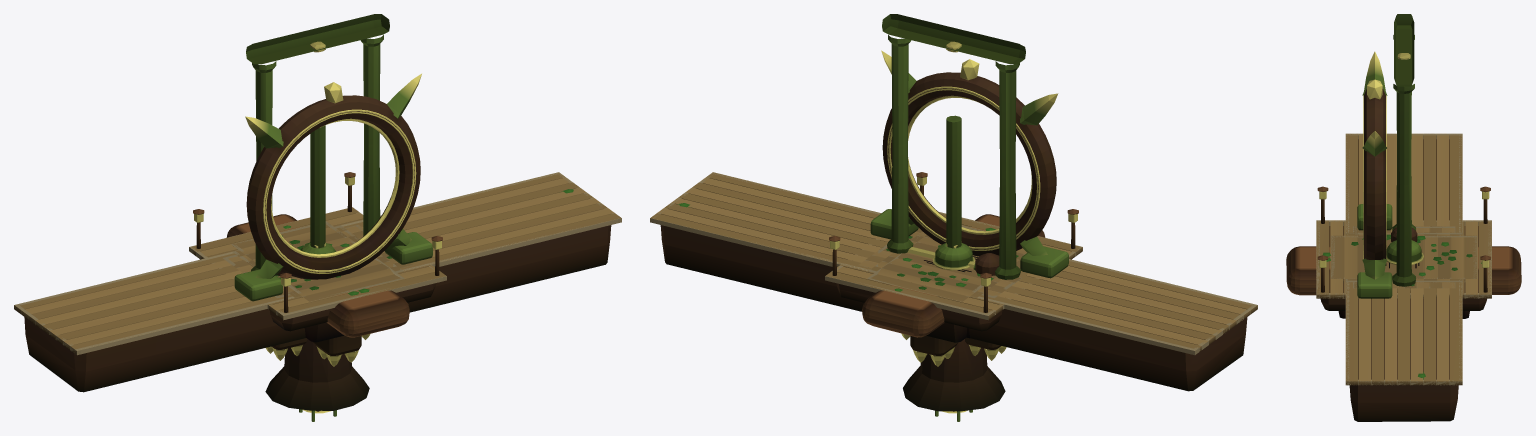
File: swamp-1-Bg64o3NV.glb
3 renders of one model, left to right at view 1: azimuth 30°, elevation 25°; view 2: azimuth 150°, elevation 25°; view 3: azimuth 270°, elevation 25°, orthographic. The views are drawn at different scales.
Visible parts, largest first — view 1: block_40x2x8#0, portal_#0, pad_12x2x12#0, pressFrame_6x6x2x7#0, block_7x2x10#0, beam_5x1.5x16_plank#0, press_7.5x6x2.5#0, press_2.5x6x7.5#0, block_8x2x8#0, block_10x2x7#0; view 2: block_40x2x8#0, portal_#0, pressFrame_6x6x2x7#0, pad_12x2x12#0, block_7x2x10#0, beam_5x1.5x16_plank#0, press_7.5x6x2.5#0, barHub_7.4x1.2#0, press_2.5x6x7.5#0, block_10x2x7#0, block_8x2x8#0; view 3: block_40x2x8#0, portal_#0, pressFrame_6x6x2x7#0, pad_12x2x12#0, block_7x2x10#0, beam_5x1.5x16_plank#0, block_10x2x7#0, block_8x2x8#0, barHub_7.4x1.2#0.
Part boxes in pixels (<box>): block_40x2x8#0: <box>14,172,621,392</box>; portal_#0: <box>234,73,432,301</box>; pad_12x2x12#0: <box>189,172,446,410</box>; pressFrame_6x6x2x7#0: <box>246,14,389,271</box>; block_7x2x10#0: <box>231,221,404,342</box>; beam_5x1.5x16_plank#0: <box>226,214,409,337</box>; press_7.5x6x2.5#0: <box>266,125,370,360</box>; press_2.5x6x7.5#0: <box>313,335,361,366</box>; block_8x2x8#0: <box>232,225,403,297</box>; block_10x2x7#0: <box>223,225,412,298</box>; block_40x2x8#0: <box>650,172,1257,391</box>; portal_#0: <box>870,50,1068,278</box>; pressFrame_6x6x2x7#0: <box>882,14,1025,279</box>; pad_12x2x12#0: <box>825,172,1082,411</box>; block_7x2x10#0: <box>867,225,1026,342</box>; beam_5x1.5x16_plank#0: <box>862,214,1045,337</box>; press_7.5x6x2.5#0: <box>901,115,1006,360</box>; barHub_7.4x1.2#0: <box>907,242,975,270</box>; press_2.5x6x7.5#0: <box>910,336,958,366</box>; block_10x2x7#0: <box>859,228,1028,298</box>; block_8x2x8#0: <box>868,231,1022,338</box>; block_40x2x8#0: <box>1345,133,1462,421</box>; portal_#0: <box>1357,51,1392,298</box>; pressFrame_6x6x2x7#0: <box>1392,14,1415,286</box>; pad_12x2x12#0: <box>1316,186,1491,310</box>; block_7x2x10#0: <box>1331,235,1477,318</box>; beam_5x1.5x16_plank#0: <box>1286,246,1521,295</box>; block_10x2x7#0: <box>1353,226,1455,291</box>; block_8x2x8#0: <box>1345,232,1462,282</box>; barHub_7.4x1.2#0: <box>1386,240,1423,264</box>.
Bounding box in the file's own units: 40 × 26.8 × 16.06.
